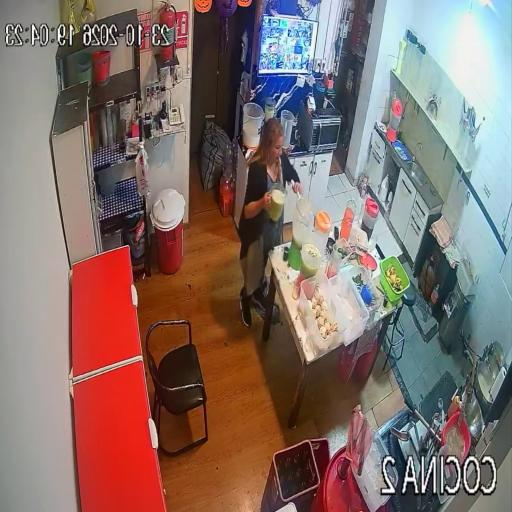Envase Llajua: (448, 395, 465, 417)
Jarra1: (362, 197, 379, 241)
Jarra2: (315, 210, 333, 244)
Jarra3: (279, 110, 293, 149)
Microondas: (303, 111, 342, 152)
Persona3: (238, 119, 300, 325)
Taper2: (358, 272, 382, 312)
Taper3: (329, 272, 369, 345)
Taper4: (298, 274, 349, 359)
